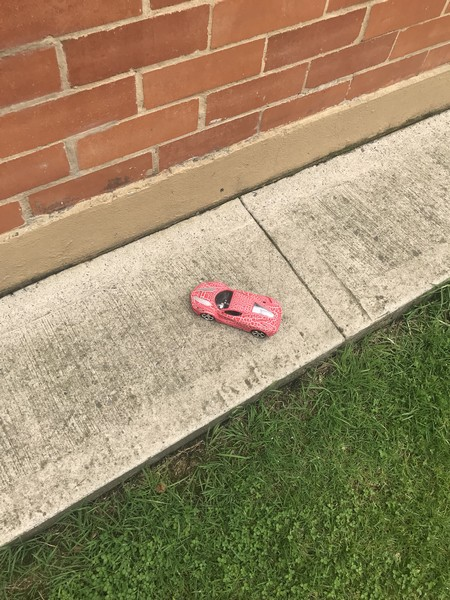RC: (189, 277, 283, 339)
